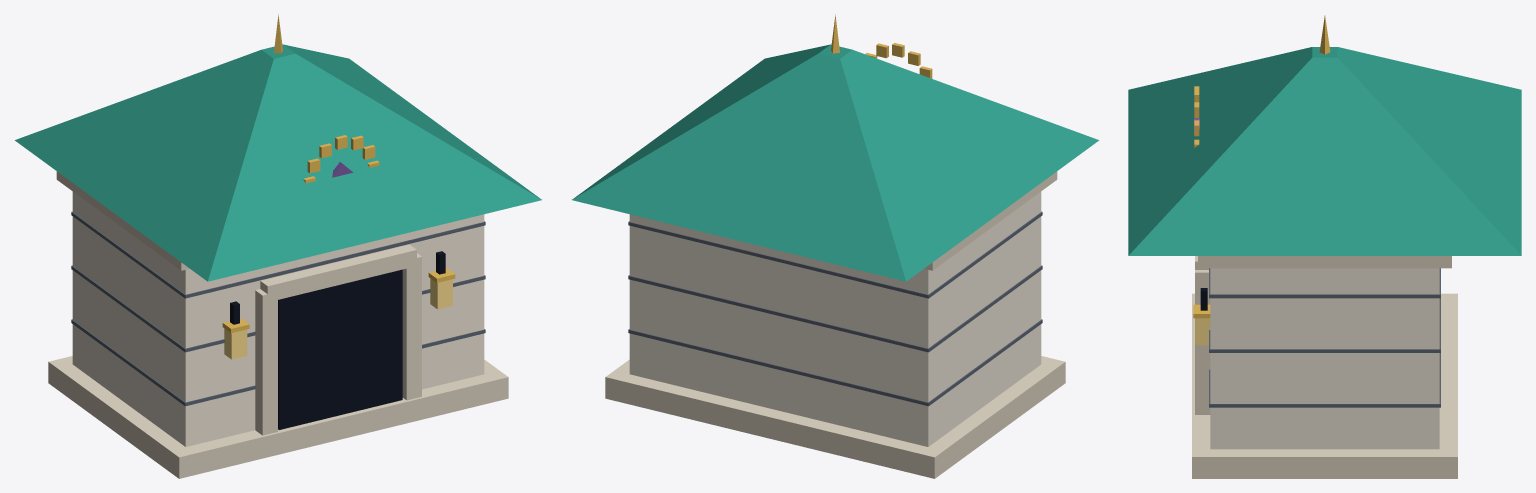
The model's file is bld_metro_entrance.glb.
The picture shows the model from 3 angles, left to right: view 1: azimuth 30°, elevation 25°; view 2: azimuth 150°, elevation 25°; view 3: azimuth 270°, elevation 25°; orthographic projection.
Parts seen in each view (by area): view 1: bld_metro_entrance; view 2: bld_metro_entrance; view 3: bld_metro_entrance.
Part boxes in pixels (x1,y1,x2,y2): bld_metro_entrance: (14,14,541,478); bld_metro_entrance: (572,14,1099,478); bld_metro_entrance: (1128,15,1521,478).
Bounding box in the file's own units: 6.51 × 7 × 6.51.
Materials: 1 (1 with a texture image).
